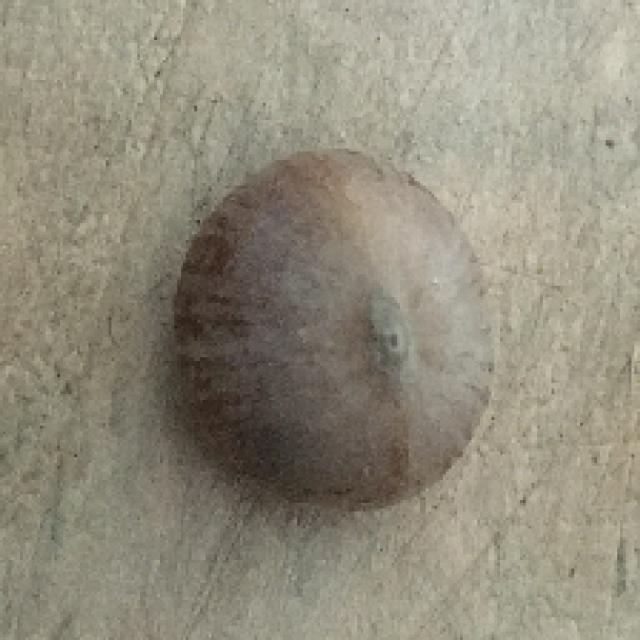qualityHazelnut: (164, 143, 503, 515)
